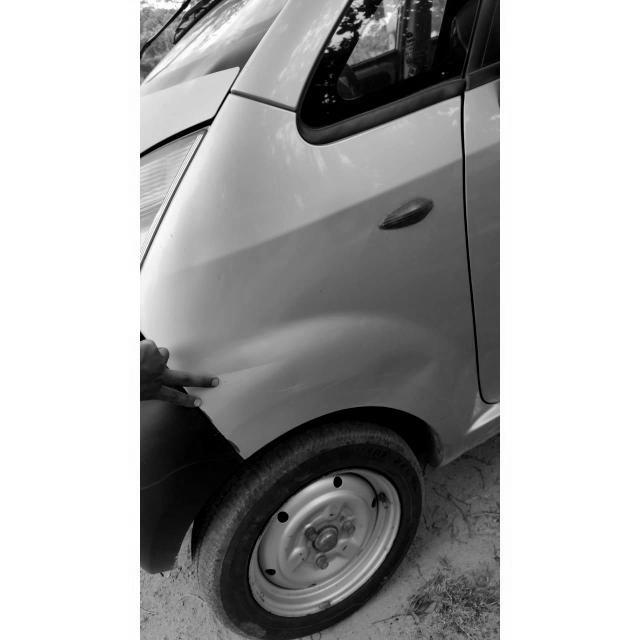fender-dent: (158, 226, 462, 484)
